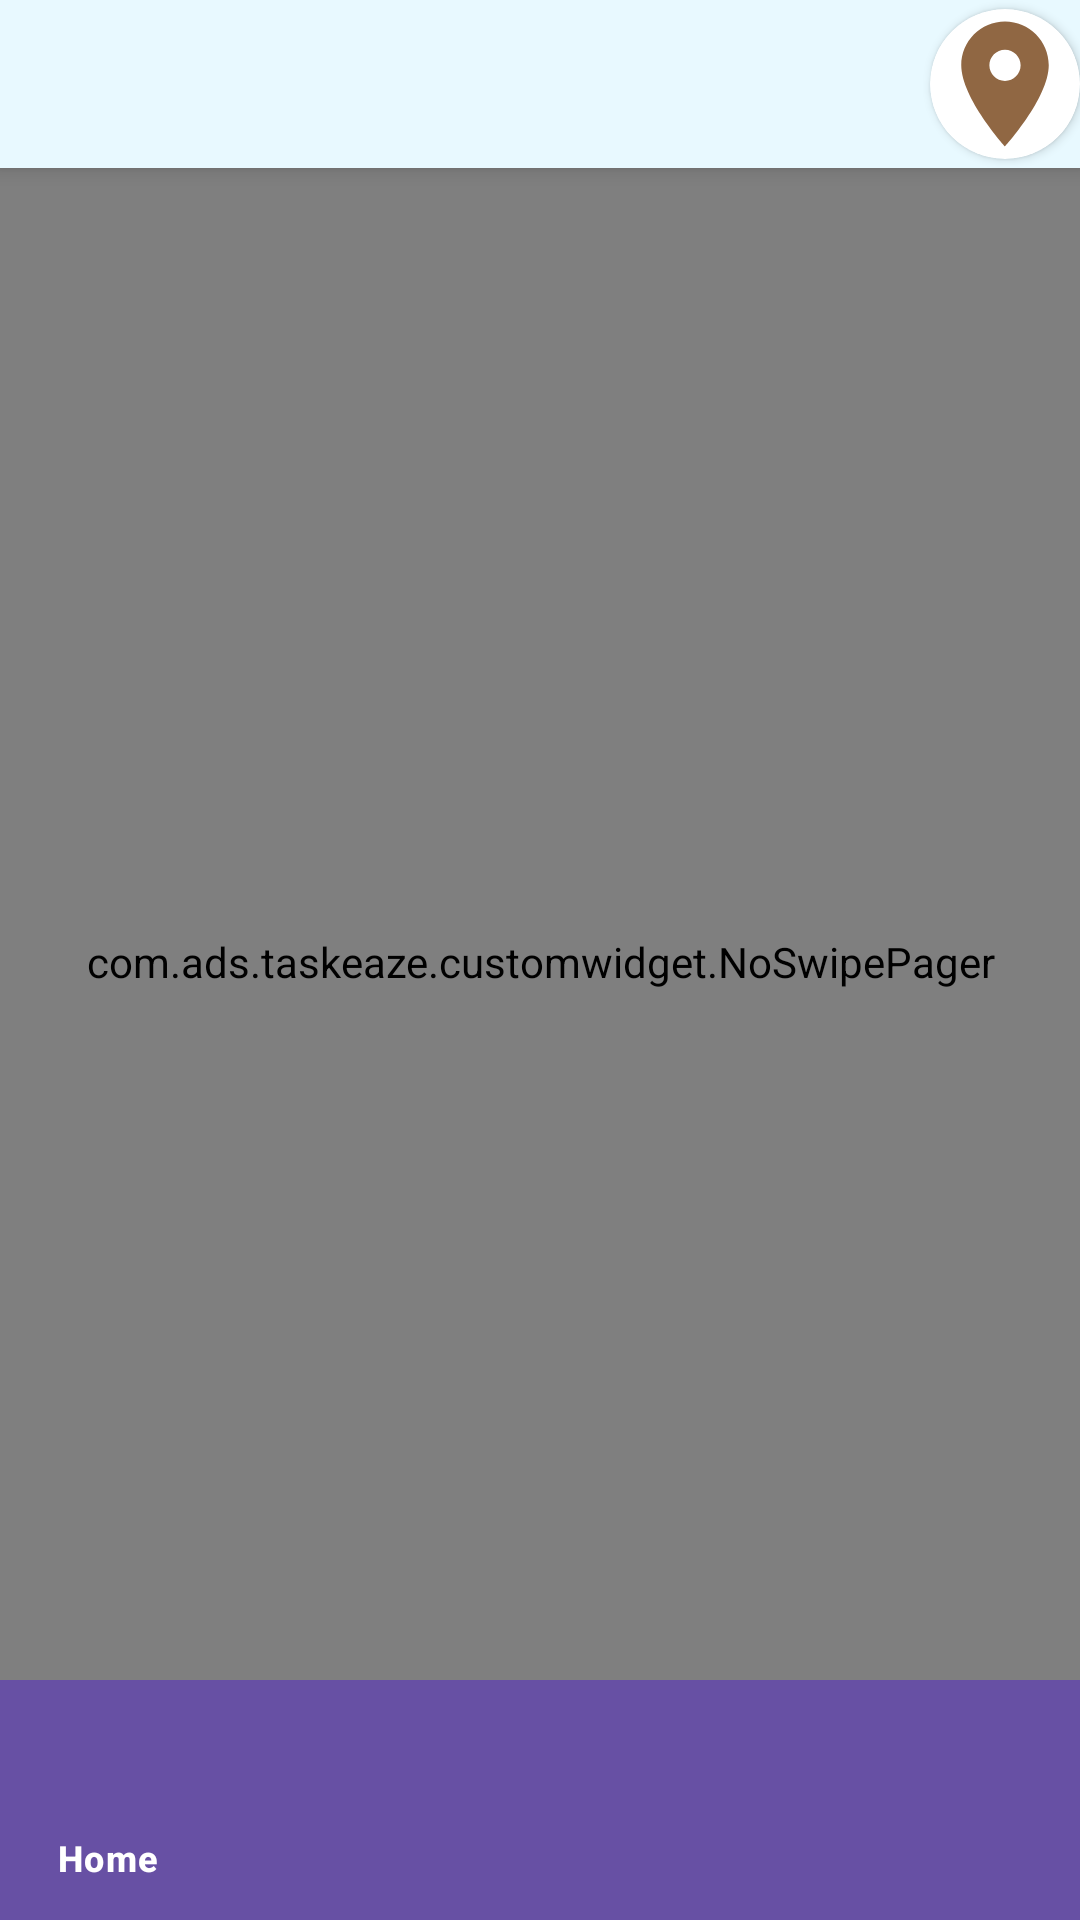

Icons on this 1080*1920 Android screen, each with its box as {"left": x1, "top": y1, "right": x2, "bottom": y2}:
tag loc: {"left": 930, "top": 9, "right": 1080, "bottom": 159}
